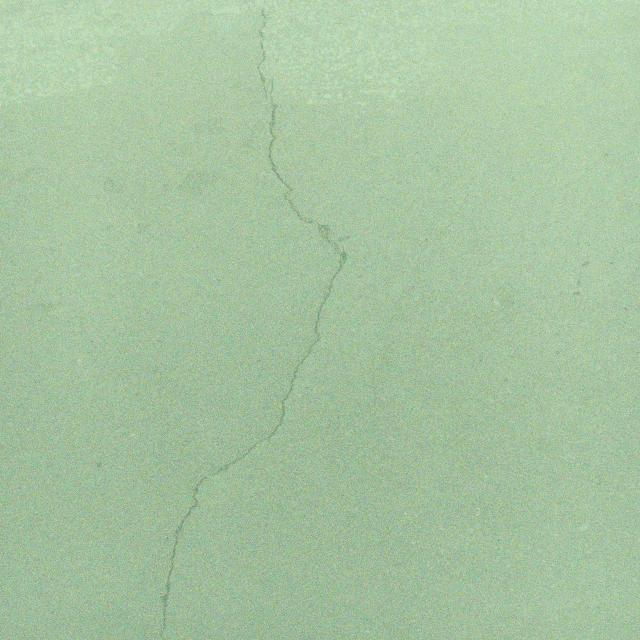crack: (117, 9, 364, 640), (359, 231, 435, 410), (436, 182, 468, 242), (454, 151, 461, 167)
